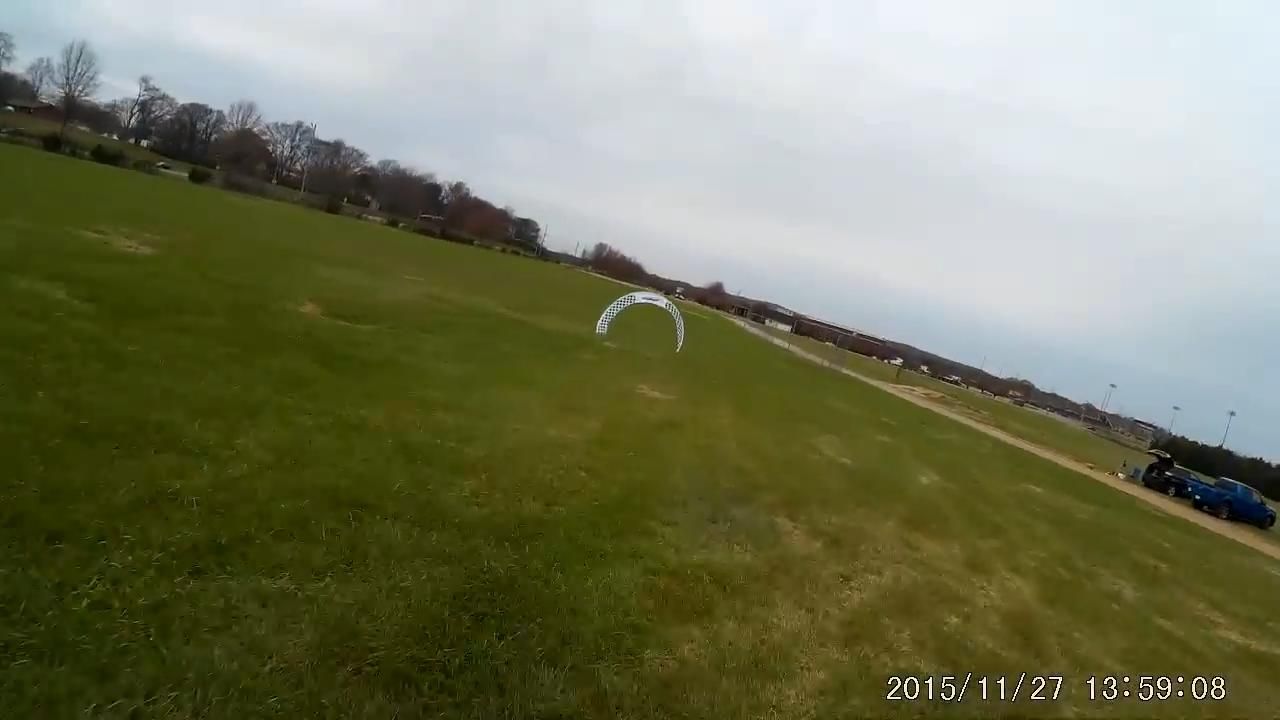gate: (595, 288, 689, 353)
